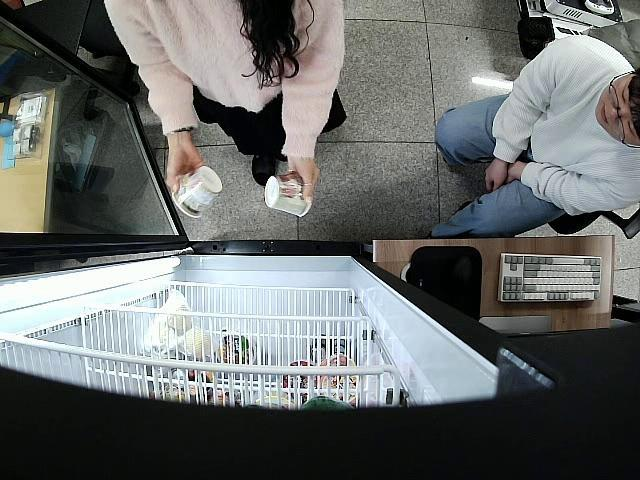04_chapagetti_S: (168, 166, 224, 222), (262, 170, 314, 220)
